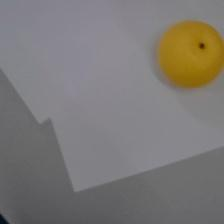yellow: (157, 19, 224, 88)
